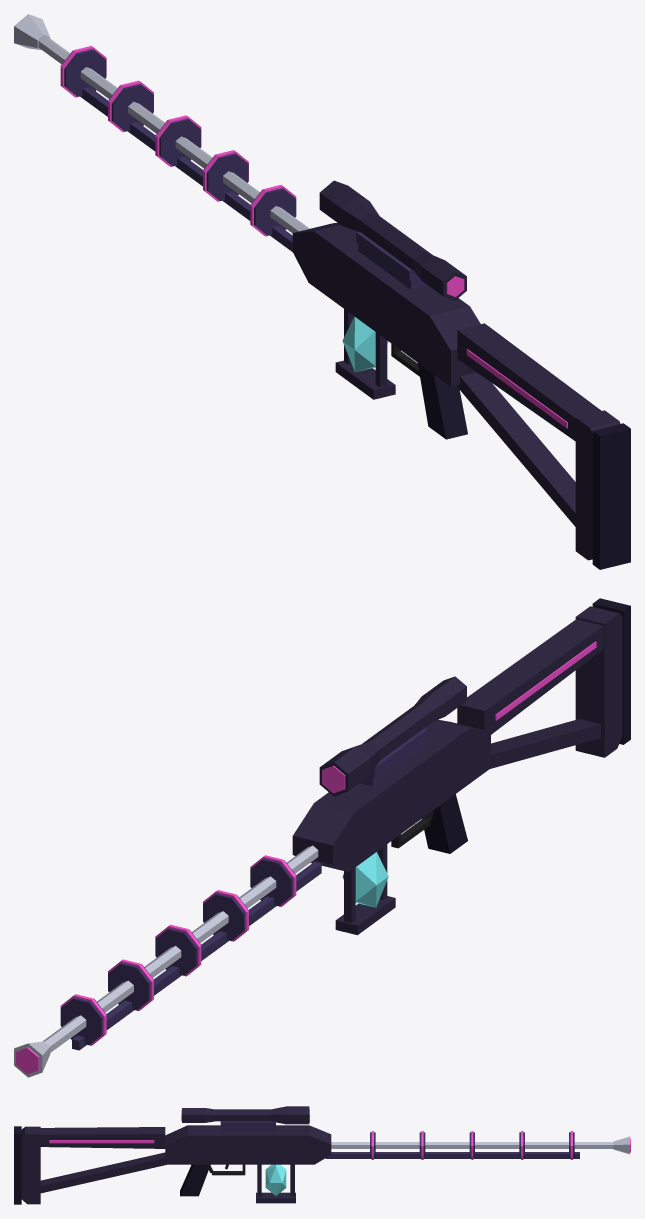
File: Nova.obj
3 views of the same model, one above another, from view 1: azimuth 30°, elevation 25°; view 2: azimuth 150°, elevation 25°; view 3: azimuth 270°, elevation 25° (orthographic). The views are drawn at different scales.
Parts seen in each view (by area): view 1: Body, Stock, Handguard, Pad, Scope, Barrel, Accent, Grip, Magazine, Mount, Muzzle; view 2: Body, Stock, Handguard, Scope, Barrel, Accent, Grip, Pad, Magazine, Mount; view 3: Body, Stock, Handguard, Scope, Barrel, Accent, Grip, Mount, Pad, Magazine, Trigger, Muzzle.
Boxes of the visible parts, x1=… form: Body: x1=292, y1=223, x2=480, y2=399; Stock: x1=456, y1=323, x2=620, y2=560; Handguard: x1=60, y1=49, x2=296, y2=251; Pad: x1=592, y1=423, x2=630, y2=569; Scope: x1=319, y1=180, x2=466, y2=300; Barrel: x1=38, y1=36, x2=309, y2=233; Accent: x1=60, y1=46, x2=567, y2=428; Grip: x1=417, y1=363, x2=467, y2=439; Magazine: x1=342, y1=316, x2=388, y2=372; Mount: x1=356, y1=232, x2=425, y2=289; Muzzle: x1=14, y1=14, x2=50, y2=49; Body: x1=292, y1=719, x2=490, y2=935; Stock: x1=457, y1=606, x2=622, y2=768; Handguard: x1=60, y1=858, x2=321, y2=1050; Scope: x1=319, y1=676, x2=466, y2=796; Barrel: x1=42, y1=845, x2=318, y2=1052; Accent: x1=16, y1=641, x2=596, y2=1074; Grip: x1=422, y1=794, x2=467, y2=853; Pad: x1=592, y1=598, x2=630, y2=744; Magazine: x1=342, y1=852, x2=388, y2=907; Mount: x1=359, y1=728, x2=427, y2=786; Body: x1=165, y1=1125, x2=331, y2=1203; Stock: x1=21, y1=1126, x2=166, y2=1204; Handguard: x1=325, y1=1132, x2=579, y2=1158; Scope: x1=182, y1=1106, x2=309, y2=1124; Barrel: x1=331, y1=1142, x2=613, y2=1148; Accent: x1=49, y1=1131, x2=630, y2=1159; Grip: x1=180, y1=1164, x2=210, y2=1196; Mount: x1=220, y1=1121, x2=275, y2=1132; Pad: x1=14, y1=1126, x2=21, y2=1204; Magazine: x1=265, y1=1164, x2=286, y2=1195; Trigger: x1=209, y1=1164, x2=245, y2=1175; Muzzle: x1=613, y1=1136, x2=629, y2=1154.
Size of the model in its own units: 0.2402 by 0.94 by 5.58.
